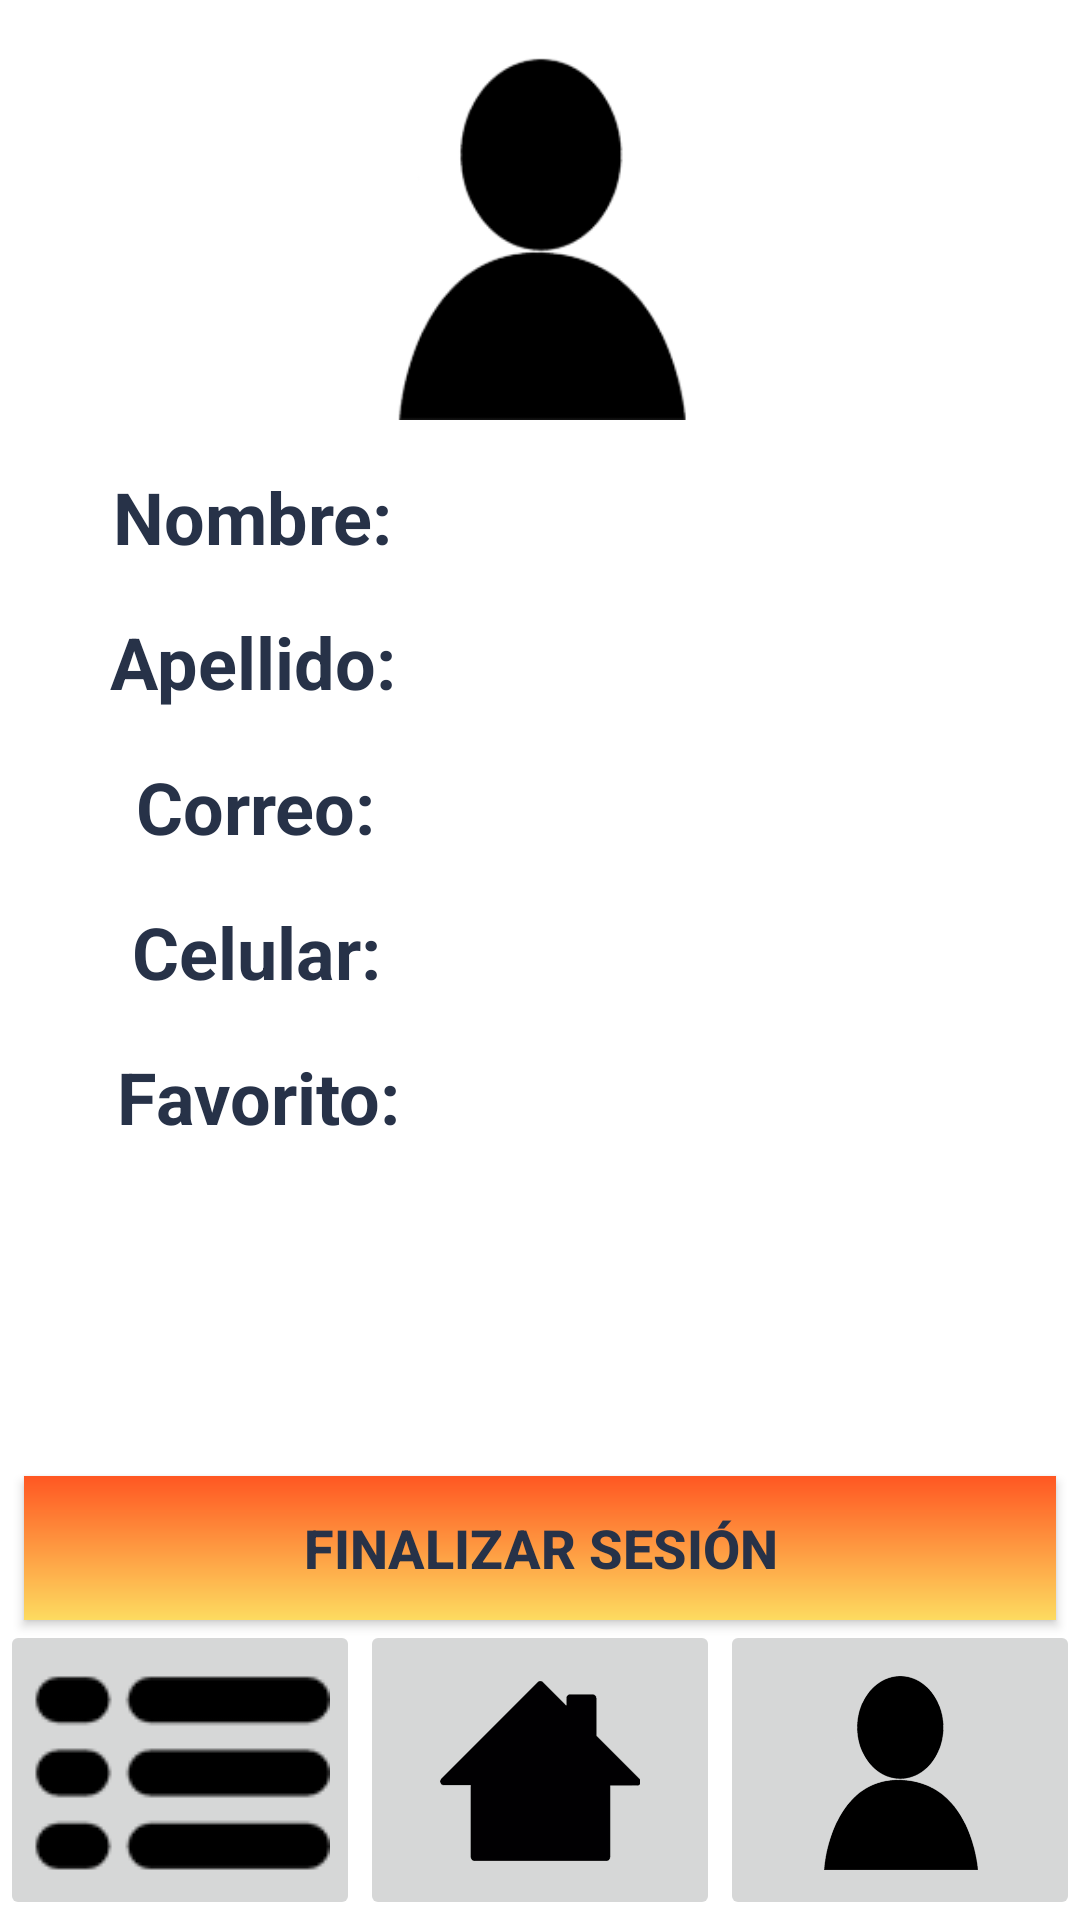

Named icons in this screenshot (1080×1920) and their centers, [x,y]:
categoria: [180,1770]
home: [540,1770]
